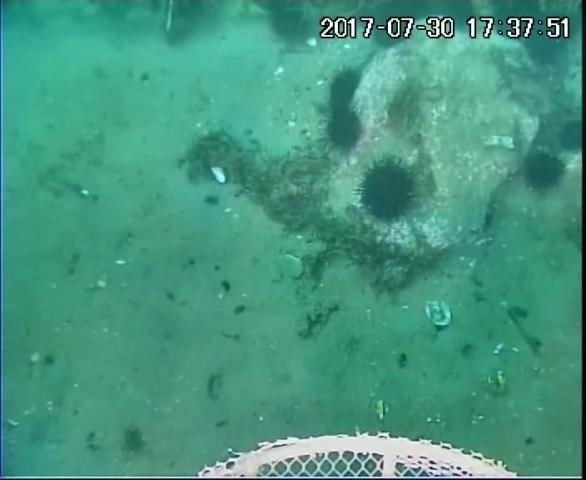echinus: (355, 156, 421, 225), (518, 147, 569, 196), (322, 105, 366, 154), (324, 65, 366, 116), (263, 4, 310, 47), (372, 13, 414, 49), (525, 27, 567, 63), (492, 7, 534, 43), (438, 1, 480, 35), (555, 115, 585, 157)
